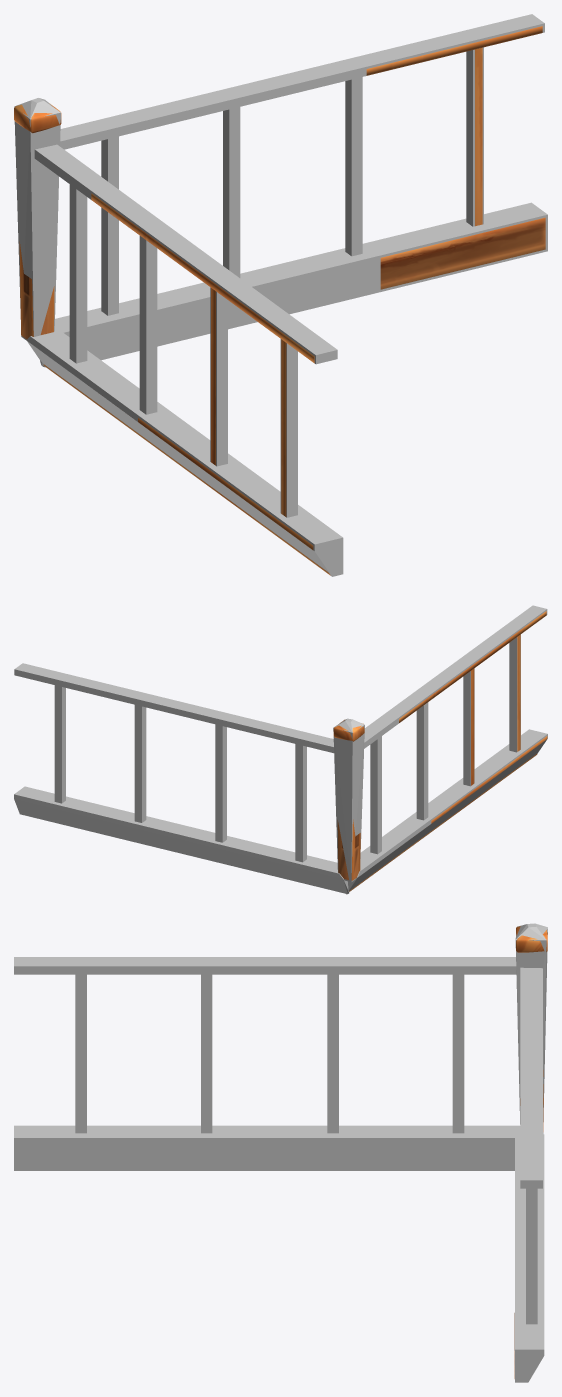
Rendered from SM_PropStairs01PTypeB3.fbx.
3 views of the same model, one above another, from view 1: azimuth 30°, elevation 25°; view 2: azimuth 150°, elevation 25°; view 3: azimuth 270°, elevation 25° (orthographic). The views are drawn at different scales.
Parts seen in each view (by area): view 1: SM_PropStairs01PTypeB3_ConvexHulls, SM_PropStairs01PTypeB3; view 2: SM_PropStairs01PTypeB3_ConvexHulls, SM_PropStairs01PTypeB3; view 3: SM_PropStairs01PTypeB3_ConvexHulls, SM_PropStairs01PTypeB3.
Part boxes in pixels (x1,y1,x2,y2): SM_PropStairs01PTypeB3_ConvexHulls: (14,14,547,576); SM_PropStairs01PTypeB3: (14,26,545,575); SM_PropStairs01PTypeB3_ConvexHulls: (14,605,547,894); SM_PropStairs01PTypeB3: (333,611,547,891); SM_PropStairs01PTypeB3_ConvexHulls: (14,923,547,1382); SM_PropStairs01PTypeB3: (514,926,547,1378).
Bounding box in the file's own units: 238 × 238 × 117.
2 materials, 1 textured.
